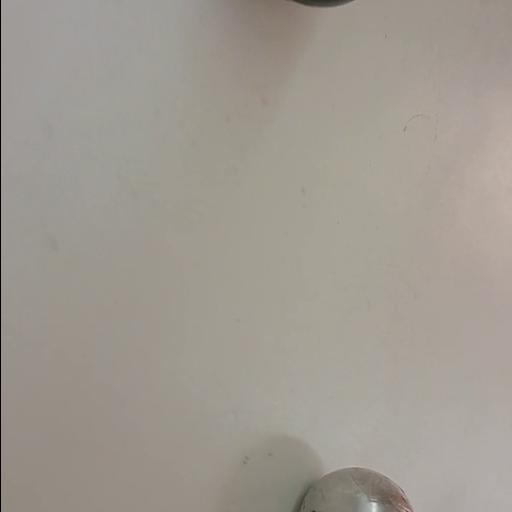alive: (298, 466, 414, 511)
dead: (277, 0, 363, 8)
